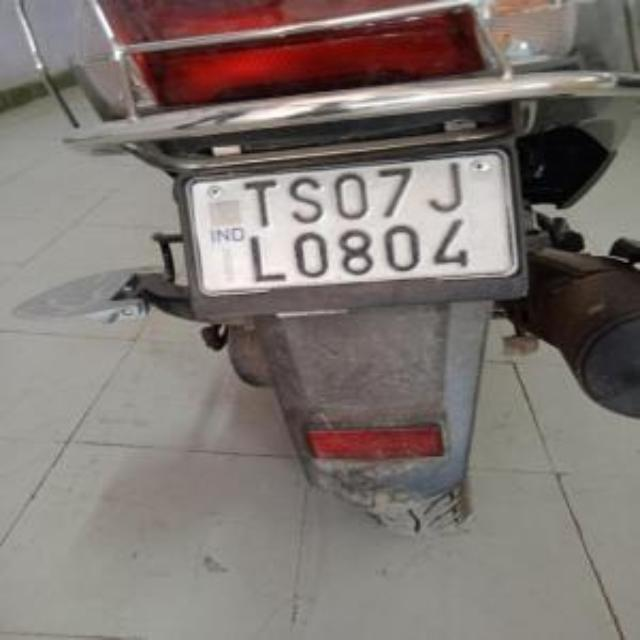License Plate: (191, 146, 515, 291)
